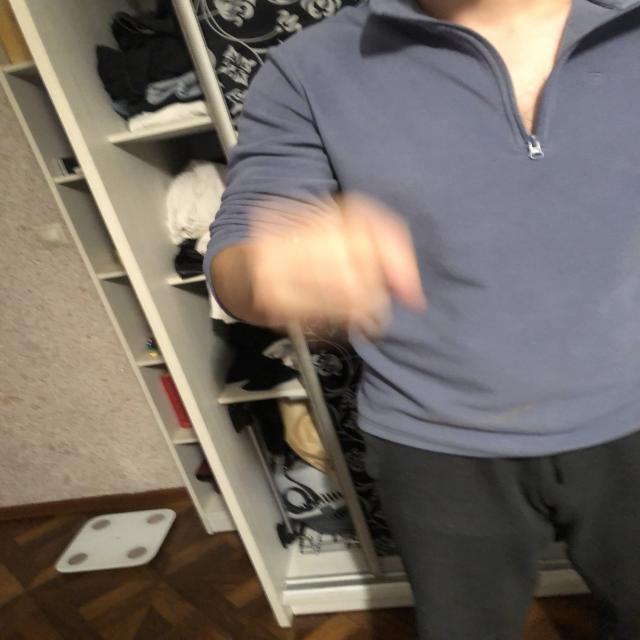rock: (248, 214, 418, 326)
